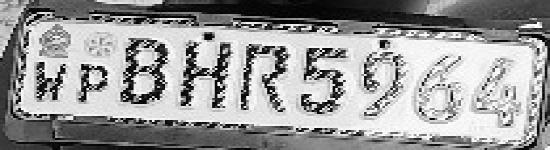4: (468, 52, 524, 128)
5: (294, 39, 358, 124)
6: (409, 53, 470, 126)
9: (358, 48, 408, 121)
B: (118, 36, 175, 108)
H: (178, 37, 235, 110)
P: (73, 61, 112, 106)
R: (236, 40, 297, 116)
W: (30, 60, 70, 105)
